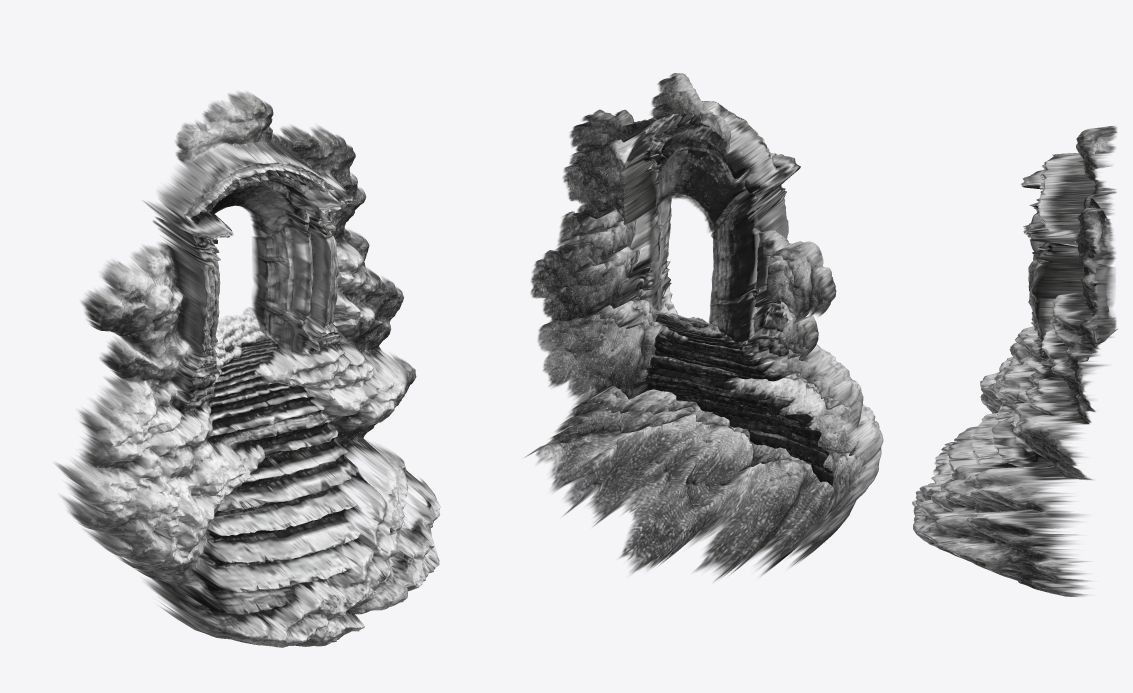
The model's file is archway-optimized.glb.
3 views of the same model, side by side, from view 1: azimuth 30°, elevation 25°; view 2: azimuth 150°, elevation 25°; view 3: azimuth 270°, elevation 25° (orthographic). The views are drawn at different scales.
Visible parts, largest first — view 1: Plane; view 2: Plane; view 3: Plane.
Boxes of the visible parts, <box> form: Plane: <box>54,91,440,647</box>; Plane: <box>524,73,883,581</box>; Plane: <box>912,126,1117,596</box>.
Size of the model in its own units: 9.98 by 12.97 by 4.97.
Materials: 1 (1 with a texture image).
